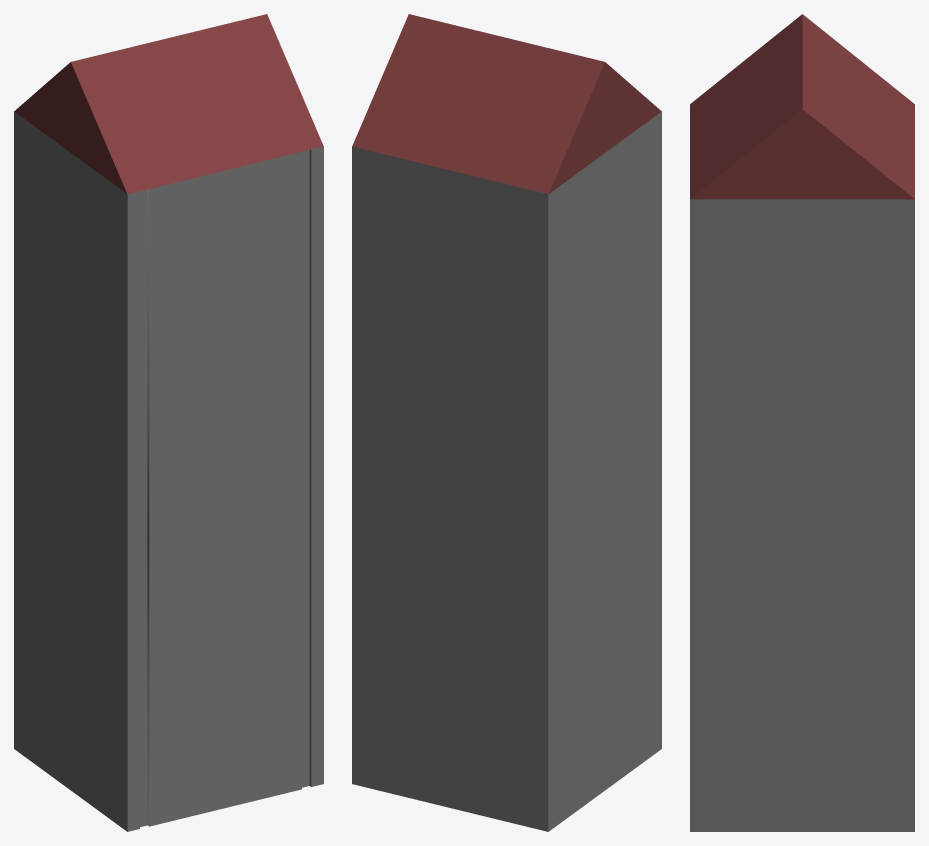
Rendered from MSH_Batiment_2.fbx.
The picture shows the model from 3 angles, left to right: view 1: azimuth 30°, elevation 25°; view 2: azimuth 150°, elevation 25°; view 3: azimuth 270°, elevation 25°; orthographic projection.
Visible parts, largest first — view 1: batiment basique, toit batiment; view 2: batiment basique, toit batiment; view 3: batiment basique, toit batiment.
Boxes of the visible parts, x1=… form: batiment basique: x1=14, y1=111, x2=323, y2=831; toit batiment: x1=14, y1=14, x2=323, y2=194; batiment basique: x1=352, y1=111, x2=661, y2=831; toit batiment: x1=352, y1=14, x2=661, y2=194; batiment basique: x1=690, y1=199, x2=914, y2=831; toit batiment: x1=690, y1=14, x2=914, y2=199.
Bounding box in the file's own units: 5.8 × 20.57 × 5.8.
